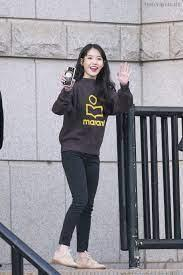pants: (58, 148, 105, 257)
sweater: (50, 76, 134, 154)
